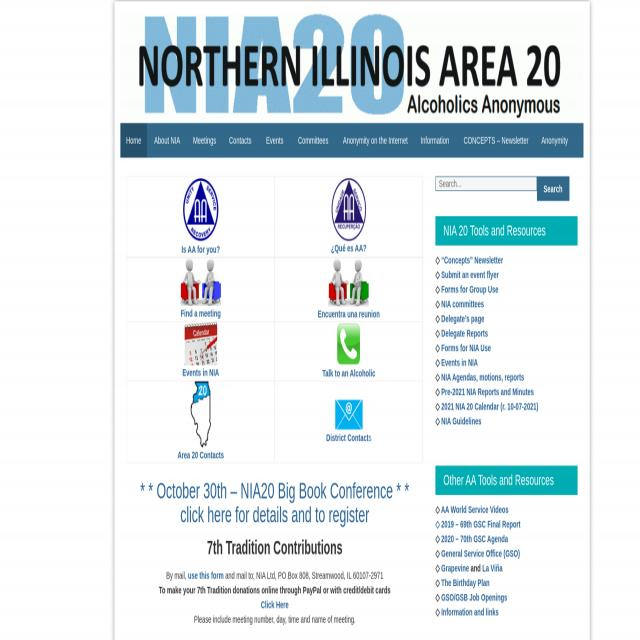button: (131, 5, 571, 119), (337, 122, 413, 156), (458, 122, 534, 156), (183, 176, 219, 241), (332, 178, 366, 240), (181, 257, 221, 304), (329, 257, 369, 304), (292, 122, 336, 156), (415, 122, 457, 156), (185, 321, 217, 364), (191, 380, 211, 446), (536, 122, 574, 156), (147, 124, 185, 158), (223, 122, 259, 156), (188, 122, 222, 156), (337, 320, 361, 364), (260, 122, 291, 156), (335, 397, 363, 430), (120, 124, 146, 158), (537, 176, 569, 202)
field: (435, 175, 537, 190)
